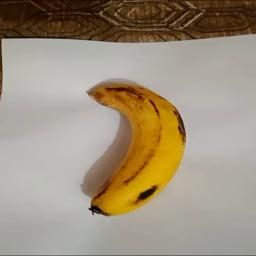Banana Semifresh: (87, 83, 186, 217)
